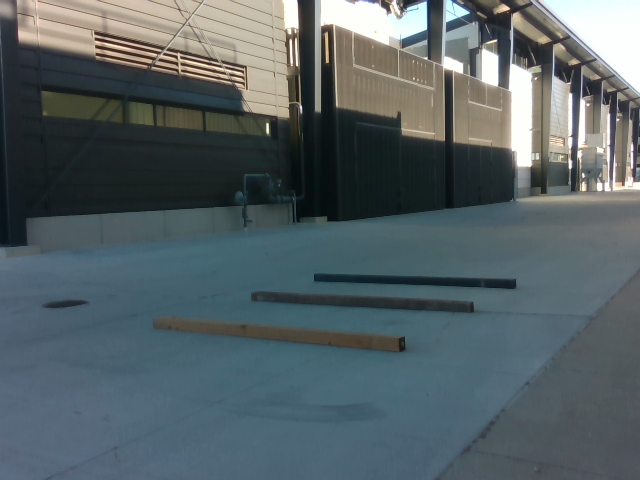Dunnage: (131, 263, 543, 358)
